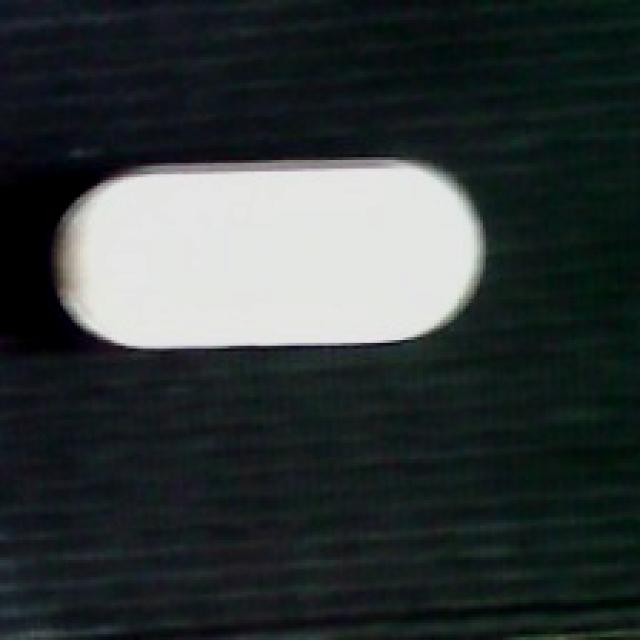no-defect: (49, 151, 488, 360)
